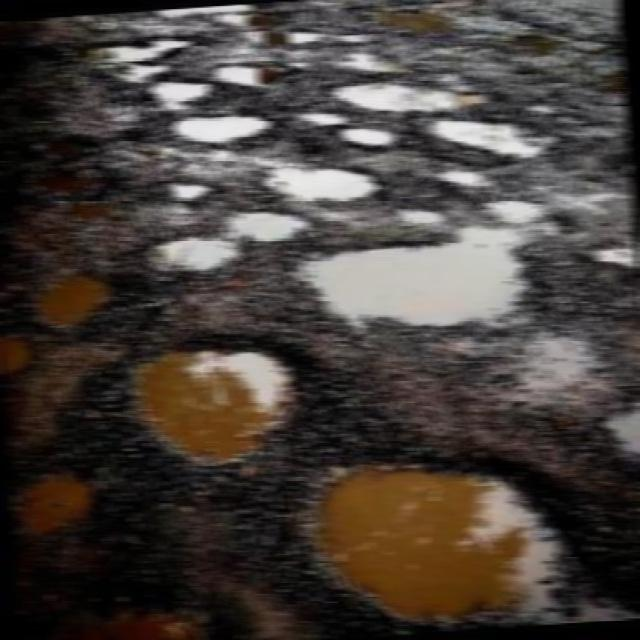Pothole: (295, 442, 623, 623), (309, 209, 576, 342), (118, 332, 308, 467), (35, 567, 220, 640), (6, 448, 130, 546), (424, 112, 561, 164), (330, 76, 498, 110), (259, 156, 378, 202), (38, 264, 114, 330), (135, 238, 248, 273), (76, 34, 207, 64), (157, 112, 279, 143), (220, 209, 310, 246), (501, 28, 568, 66), (211, 60, 295, 89), (146, 76, 211, 112), (154, 175, 226, 207), (337, 52, 412, 80), (271, 30, 385, 48), (333, 119, 398, 150), (607, 389, 640, 448), (0, 326, 33, 384), (570, 30, 640, 56), (592, 242, 640, 277), (592, 68, 640, 100), (104, 64, 168, 84), (284, 108, 350, 126)
